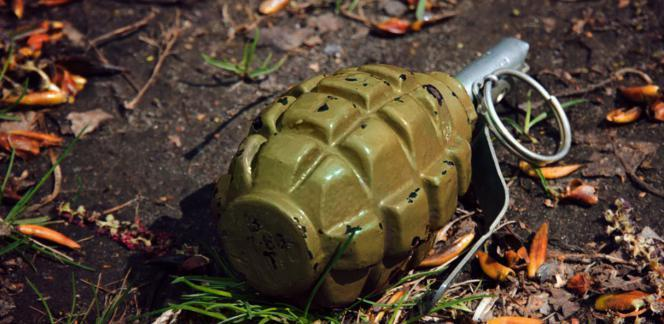Grenade: (210, 38, 571, 312)
